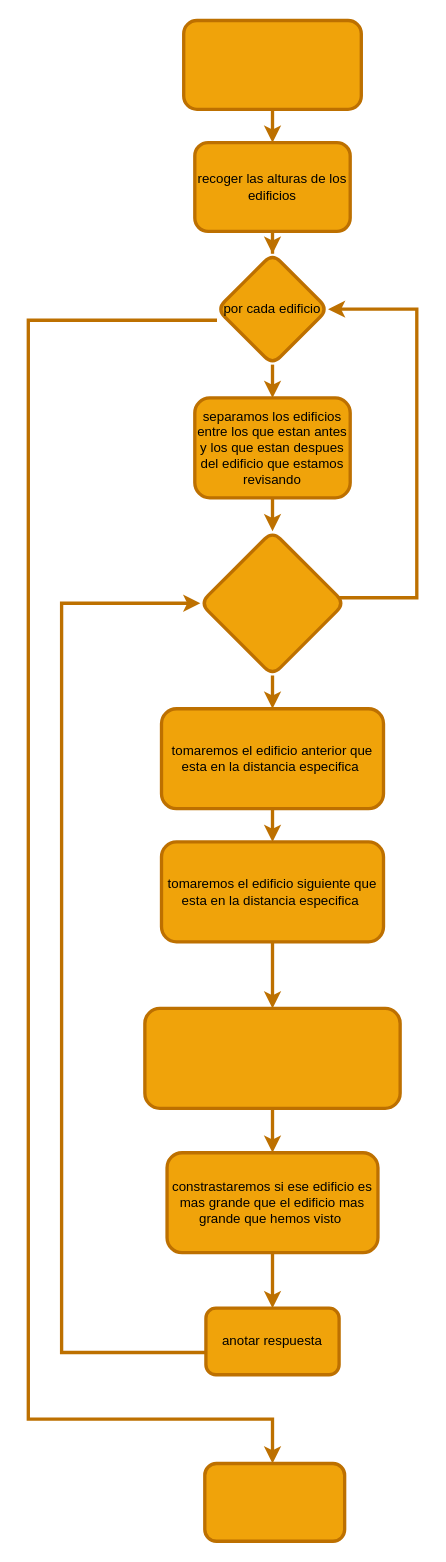
This 446x1562 diagram has some shape labels left out. The centre of each missing label's shape, as x and y in pixels:
"imprimir las respuestas" belongs at (x=274, y=1501).
"por cada unidad de distancia" belongs at (x=272, y=603).
"recoger numero de edificios" belongs at (x=271, y=64).
"veremos cual de los dos es mas grande" belongs at (x=272, y=1057).
